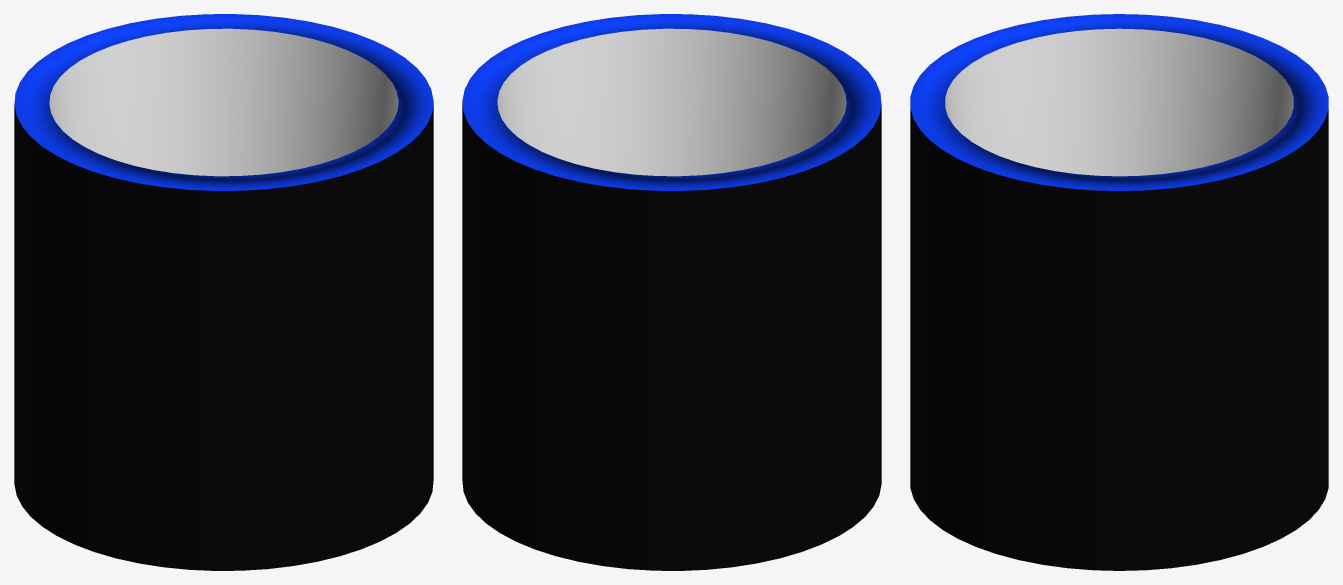
File: panier.fbx
3 views of the same model, side by side, from view 1: azimuth 30°, elevation 25°; view 2: azimuth 150°, elevation 25°; view 3: azimuth 270°, elevation 25° (orthographic).
Parts seen in each view (by area): view 1: panier_3d_unity; view 2: panier_3d_unity; view 3: panier_3d_unity.
Part boxes in pixels (left/top/right/bottom): panier_3d_unity: left=14, top=14, right=433, bottom=570; panier_3d_unity: left=462, top=14, right=881, bottom=570; panier_3d_unity: left=910, top=14, right=1328, bottom=570.
Size of the model in its own units: 11.87 by 11.88 by 11.85.
